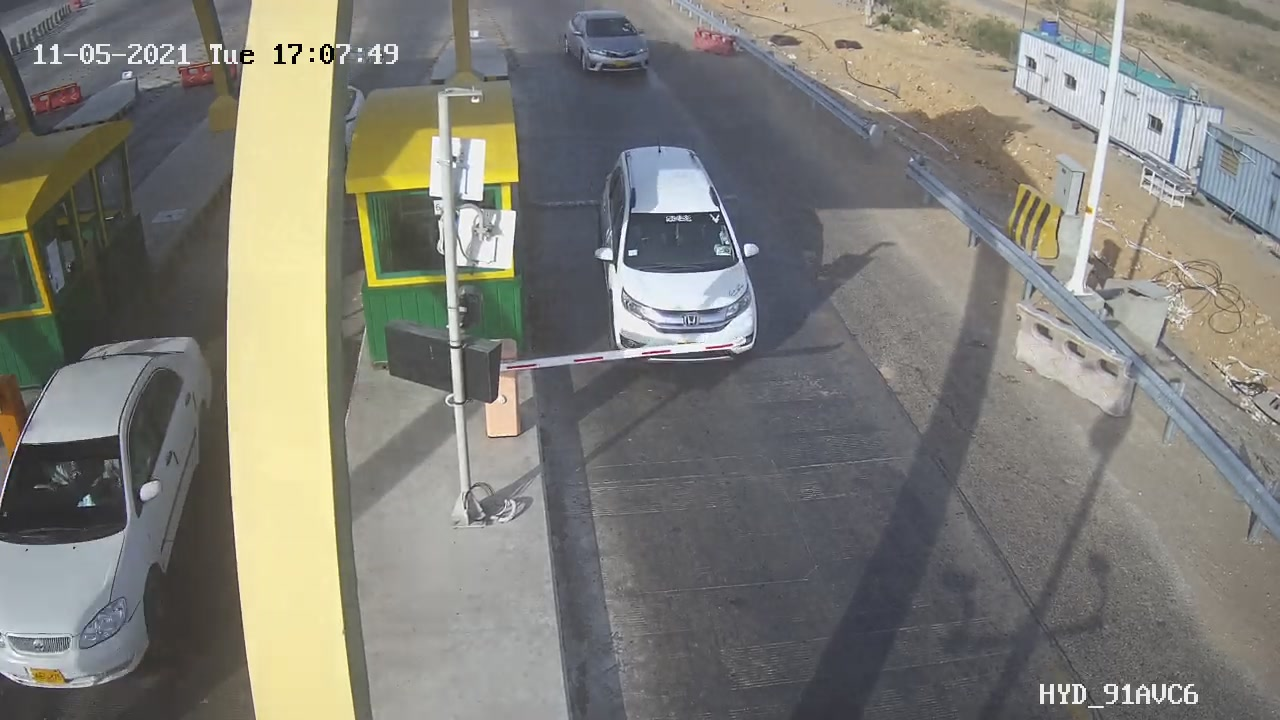F1: (576, 124, 782, 386)
